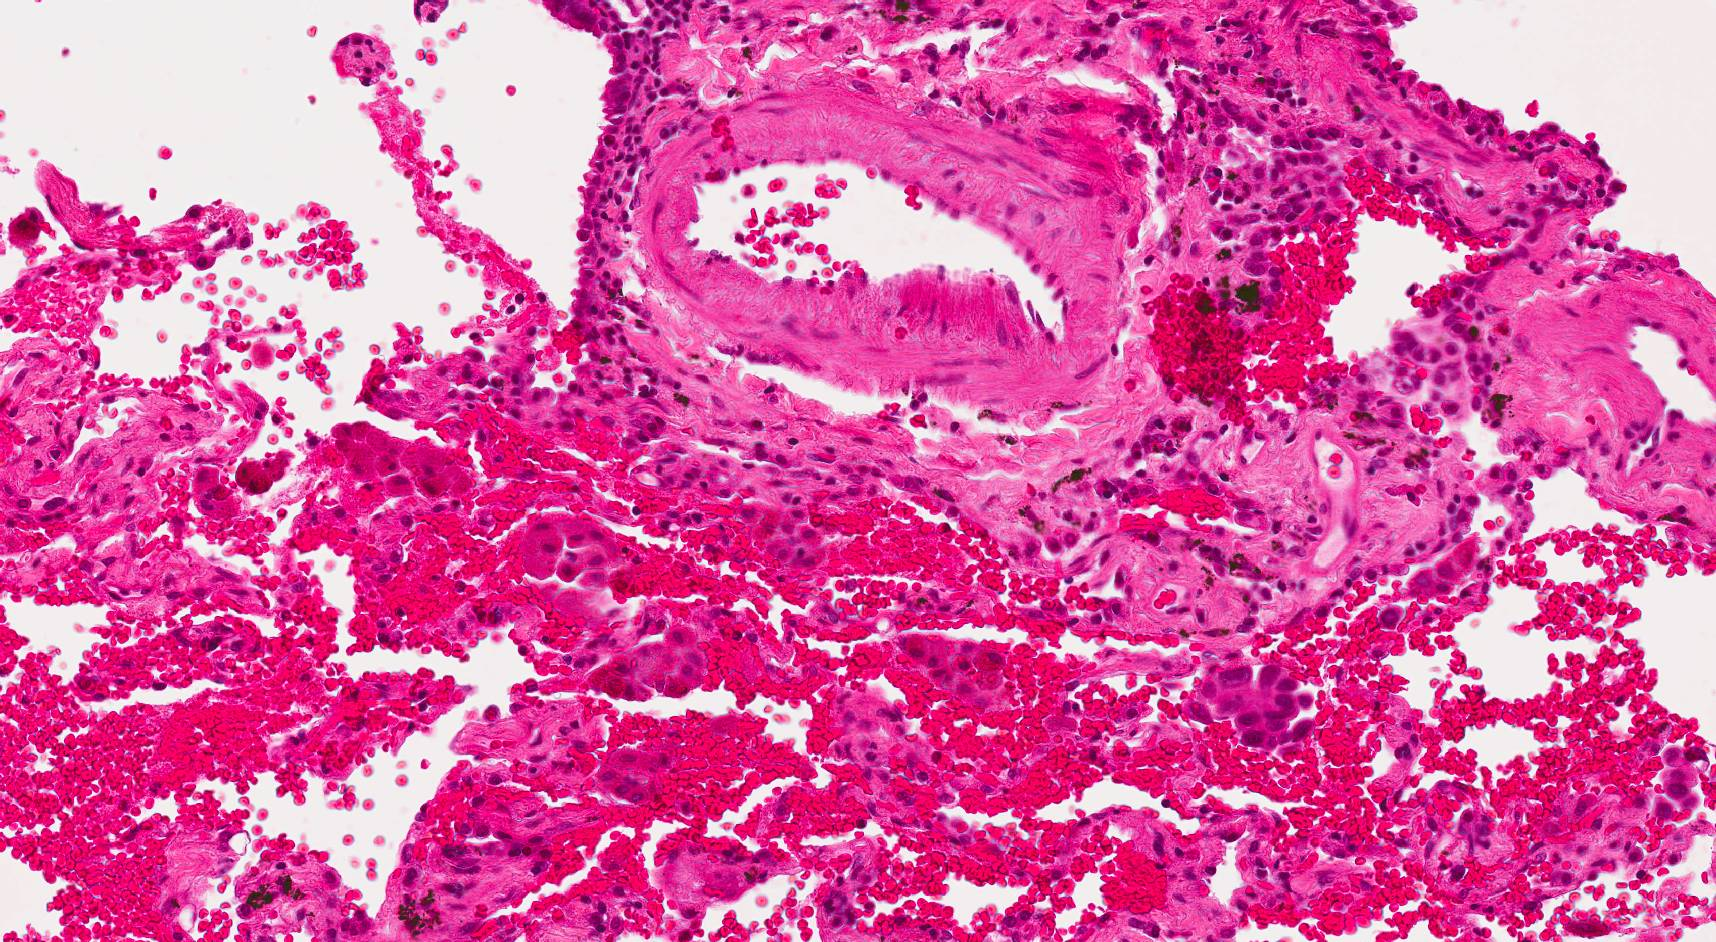stas: (1184, 660, 1322, 755)
